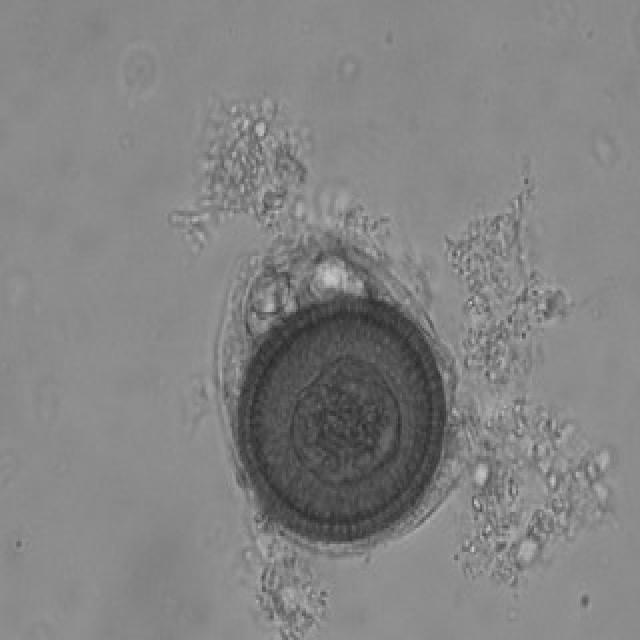Taenia Sp: (232, 293, 444, 555)
